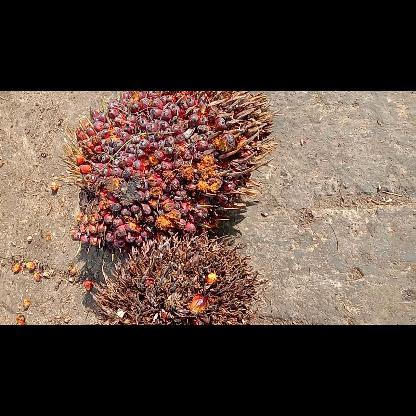TBS masak: (55, 91, 277, 259)
Terlalu masak: (94, 232, 270, 324)
